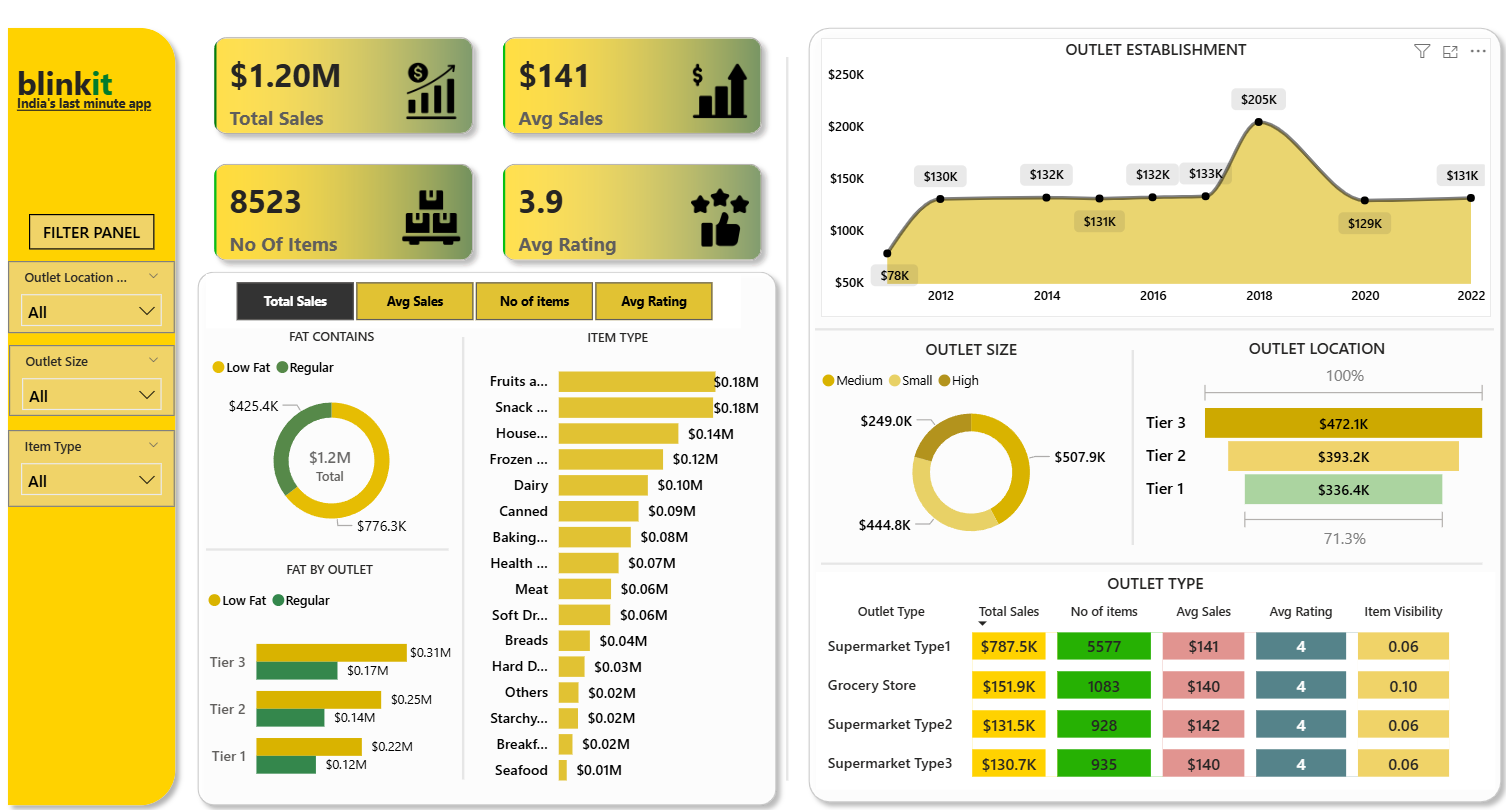

Layout of this report page (visuals, bound fields, positions):
{"tool":"powerbi","page":{"name":"Blinkit sales Dashboard","canvas":[1280,720],"ordinal":0},"visuals":[{"type":"shape","box":[0,31.3,159.7,675.2],"z":0},{"type":"textbox","box":[11.8,63.4,122.5,49],"z":1000},{"type":"textbox","box":[11.8,89.6,131.8,31.3],"z":2000},{"type":"cardVisual","fields":{"Data":["Sheet1.total sales","Sheet1.avg sales","Sheet1.no of items","Sheet1.Avg Rating"]},"box":[166.6,31.2,497.2,223.9],"z":3000},{"type":"shape","box":[160.6,237.5,507,469],"z":4000},{"type":"donutChart","title":"FAT CONTAINS","fields":{"Y":["Sheet1.Total Sales"],"Category":["Sheet1.Item Fat Content"]},"box":[176.6,293.2,212.1,183.4],"z":5000},{"type":"cardVisual","fields":{"Data":["Sheet1.Total Sales"]},"box":[244.2,380.3,77.7,52.4],"z":6000},{"type":"clusteredBarChart","title":"FAT BY OUTLET","fields":{"Y":["Sheet1.Total Sales"],"Series":["Sheet1.Item Fat Content"],"Category":["Sheet1.Outlet Location Type"]},"box":[173.2,490.1,215.5,202.8],"z":7000},{"type":"slicer","fields":{"Values":["MATRIC.MATRIC"]},"box":[176.6,248.5,452.1,45.6],"z":8000},{"type":"shape","box":[176.6,473.2,205.4,16.1],"z":9000},{"type":"shape","box":[388.1,301.9,12.1,374.3],"z":10000},{"type":"barChart","title":"ITEM TYPE","fields":{"Y":["Sheet1.Total Sales"],"Category":["Sheet1.Item Type"]},"box":[399.7,294.1,249.3,396.3],"z":11000},{"type":"shape","box":[676.9,31.3,603.4,672.7],"z":12000},{"type":"lineChart","title":"OUTLET ESTABLISHMENT","fields":{"Category":["Sheet1.Outlet Establishment Year"],"Y":["Sheet1.Total Sales"]},"box":[696.3,49,566.2,235.8],"z":13000},{"type":"shape","box":[658.1,64.7,19,611.5],"z":14000},{"type":"shape","box":[691.5,291.8,573.8,7.4],"z":15000},{"type":"donutChart","title":"OUTLET SIZE","fields":{"Y":["Sheet1.Total Sales"],"Category":["Sheet1.Outlet Size"]},"box":[691.8,302.7,262.2,182.9],"z":16000},{"type":"shape","box":[954.3,312.3,11.5,164.8],"z":17000},{"type":"funnel","title":"OUTLET LOCATION","fields":{"Category":["Sheet1.Outlet Location Type"],"Y":["Sheet1.Total Sales"]},"box":[965.9,301.7,299.2,184.2],"z":18000},{"type":"shape","box":[696.1,485.6,558.9,14.7],"z":19000},{"type":"pivotTable","title":"OUTLET TYPE","fields":{"Rows":["Sheet1.Outlet Type"],"Values":["Sheet1.Total Sales","Sheet1.No of items","Sheet1.Avg Sales","Sheet1.Avg Rating","Avg(Sheet1.Item Visibility)"]},"box":[691.8,500.3,573.6,183.7],"z":20000},{"type":"slicer","fields":{"Values":["Sheet1.Outlet Location Type"]},"box":[9.3,237.5,141.1,60.8],"z":21000},{"type":"slicer","fields":{"Values":["Sheet1.Outlet Size"]},"box":[10.1,308.5,140.3,60],"z":22000},{"type":"slicer","fields":{"Values":["Sheet1.Item Type"]},"box":[9.3,380.3,141.1,65.1],"z":23000},{"type":"textbox","box":[27,197.7,105.6,30.4],"z":24000}]}

Visuals, with their boxes on the page's 1280x720 design canvas (x1, y1, x2, y2). These are canvas units, not pixel positions in the 1506x810 screenshot, which may show the page scaled, cropped or inside an application window:
shape: [x1=0, y1=31, x2=160, y2=706]
textbox: [x1=12, y1=63, x2=134, y2=112]
textbox: [x1=12, y1=90, x2=144, y2=121]
cardVisual - Sheet1.total sales x Sheet1.avg sales: [x1=167, y1=31, x2=664, y2=255]
shape: [x1=161, y1=238, x2=668, y2=706]
"FAT CONTAINS" donutChart: [x1=177, y1=293, x2=389, y2=477]
cardVisual - Sheet1.Total Sales: [x1=244, y1=380, x2=322, y2=433]
"FAT BY OUTLET" clusteredBarChart: [x1=173, y1=490, x2=389, y2=693]
slicer - MATRIC.MATRIC: [x1=177, y1=248, x2=629, y2=294]
shape: [x1=177, y1=473, x2=382, y2=489]
shape: [x1=388, y1=302, x2=400, y2=676]
"ITEM TYPE" barChart: [x1=400, y1=294, x2=649, y2=690]
shape: [x1=677, y1=31, x2=1280, y2=704]
"OUTLET ESTABLISHMENT" lineChart: [x1=696, y1=49, x2=1262, y2=285]
shape: [x1=658, y1=65, x2=677, y2=676]
shape: [x1=692, y1=292, x2=1265, y2=299]
"OUTLET SIZE" donutChart: [x1=692, y1=303, x2=954, y2=486]
shape: [x1=954, y1=312, x2=966, y2=477]
"OUTLET LOCATION" funnel: [x1=966, y1=302, x2=1265, y2=486]
shape: [x1=696, y1=486, x2=1255, y2=500]
"OUTLET TYPE" pivotTable: [x1=692, y1=500, x2=1265, y2=684]
slicer - Sheet1.Outlet Location Type: [x1=9, y1=238, x2=150, y2=298]
slicer - Sheet1.Outlet Size: [x1=10, y1=308, x2=150, y2=368]
slicer - Sheet1.Item Type: [x1=9, y1=380, x2=150, y2=445]
textbox: [x1=27, y1=198, x2=133, y2=228]
